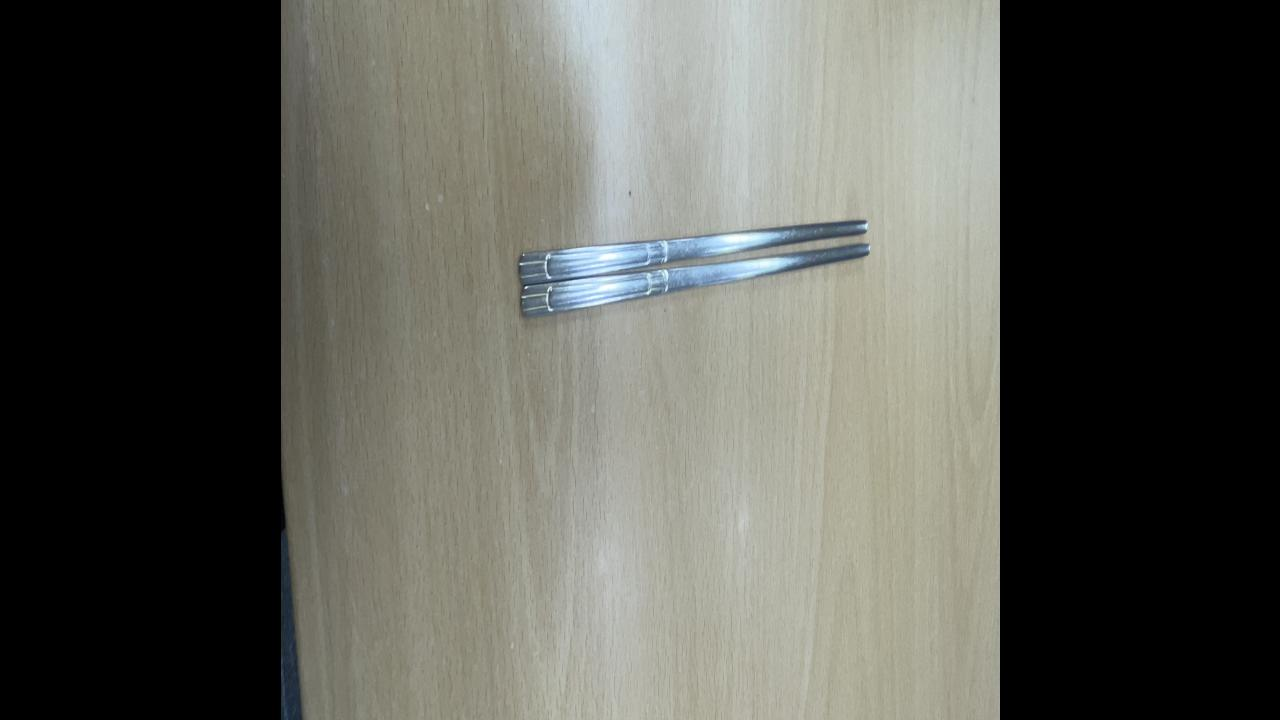chopstick: (514, 209, 874, 325)
